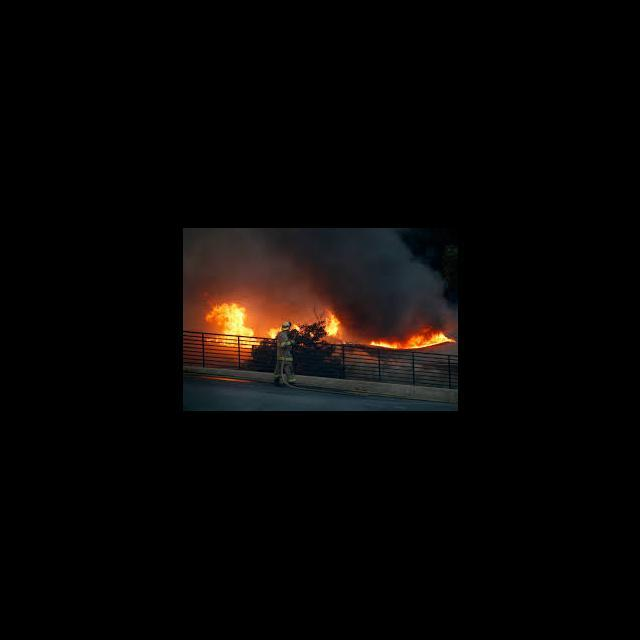Fire: (192, 293, 260, 352), (368, 327, 457, 353), (322, 308, 342, 342), (265, 326, 280, 340), (290, 324, 301, 332)
Smoke: (254, 229, 450, 306), (182, 228, 254, 292)
